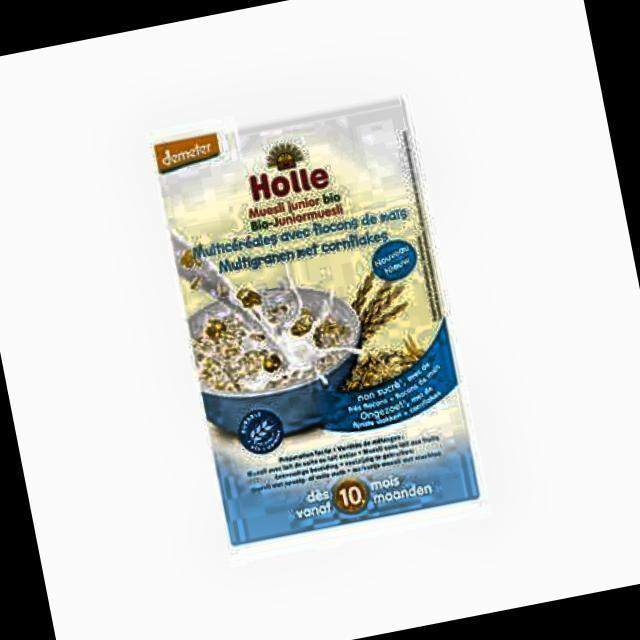cardboard: (149, 93, 481, 548)
